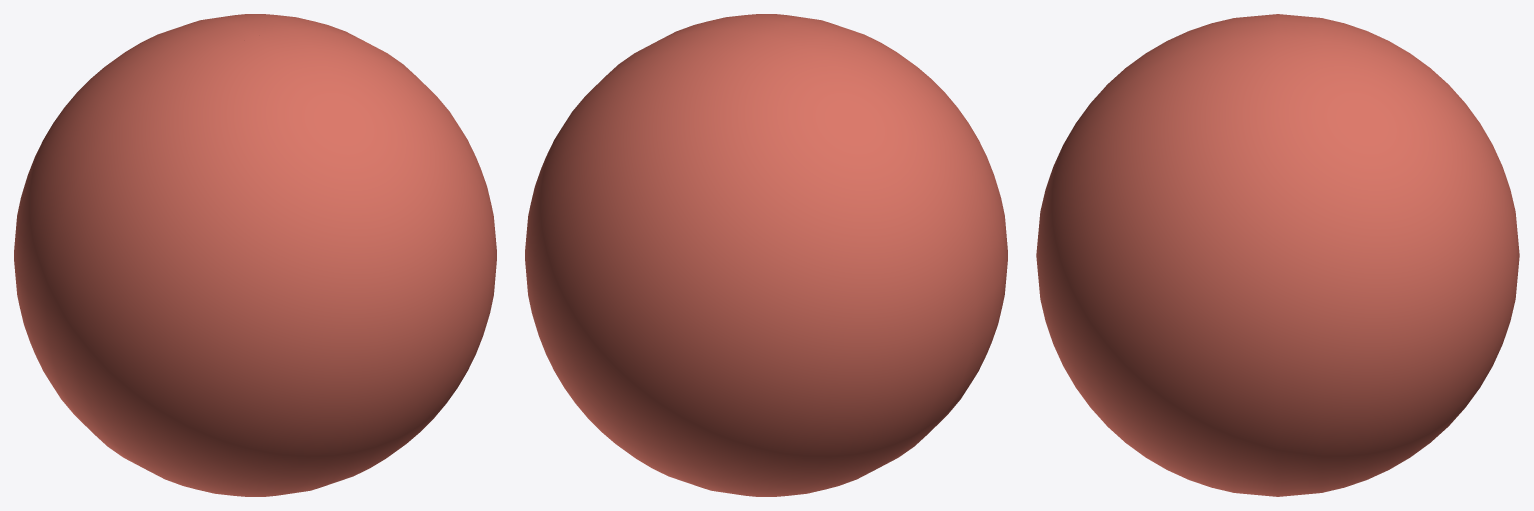
File: qiuti.FBX
The picture shows the model from 3 angles, left to right: view 1: azimuth 30°, elevation 25°; view 2: azimuth 150°, elevation 25°; view 3: azimuth 270°, elevation 25°; orthographic projection.
Parts seen in each view (by area): view 1: TRM_SRF (×2); view 2: TRM_SRF (×2); view 3: TRM_SRF (×2).
Boxes of the visible parts, left/top/right/bottom form: TRM_SRF (×2): left=14, top=14, right=496, bottom=496; TRM_SRF (×2): left=525, top=14, right=1007, bottom=496; TRM_SRF (×2): left=1036, top=14, right=1519, bottom=496.
Size of the model in its own units: 39.37 by 39.37 by 39.37.
